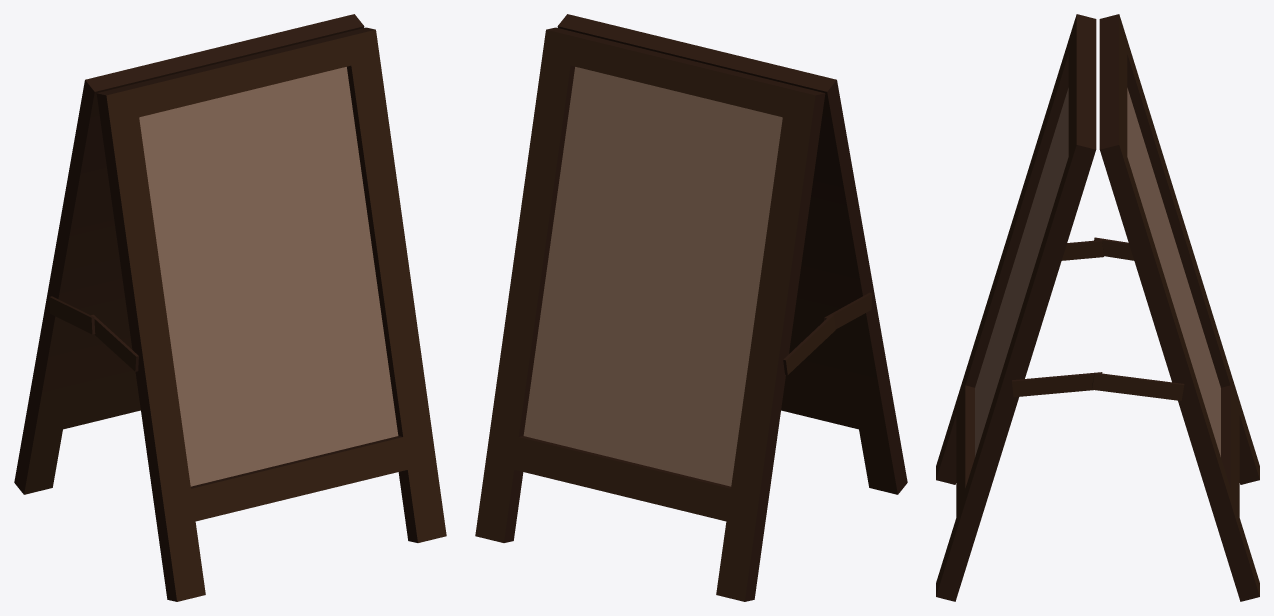
Rendered from MenuSign_Clear.fbx.
The picture shows the model from 3 angles, left to right: view 1: azimuth 30°, elevation 25°; view 2: azimuth 150°, elevation 25°; view 3: azimuth 270°, elevation 25°; orthographic projection.
Parts seen in each view (by area): view 1: MenuSign_Clear; view 2: MenuSign_Clear; view 3: MenuSign_Clear.
Part boxes in pixels (x1,y1,x2,y2): MenuSign_Clear: (14,14,446,601); MenuSign_Clear: (475,14,907,601); MenuSign_Clear: (936,14,1259,601).
Size of the model in its own units: 59.02 by 91.86 by 59.
